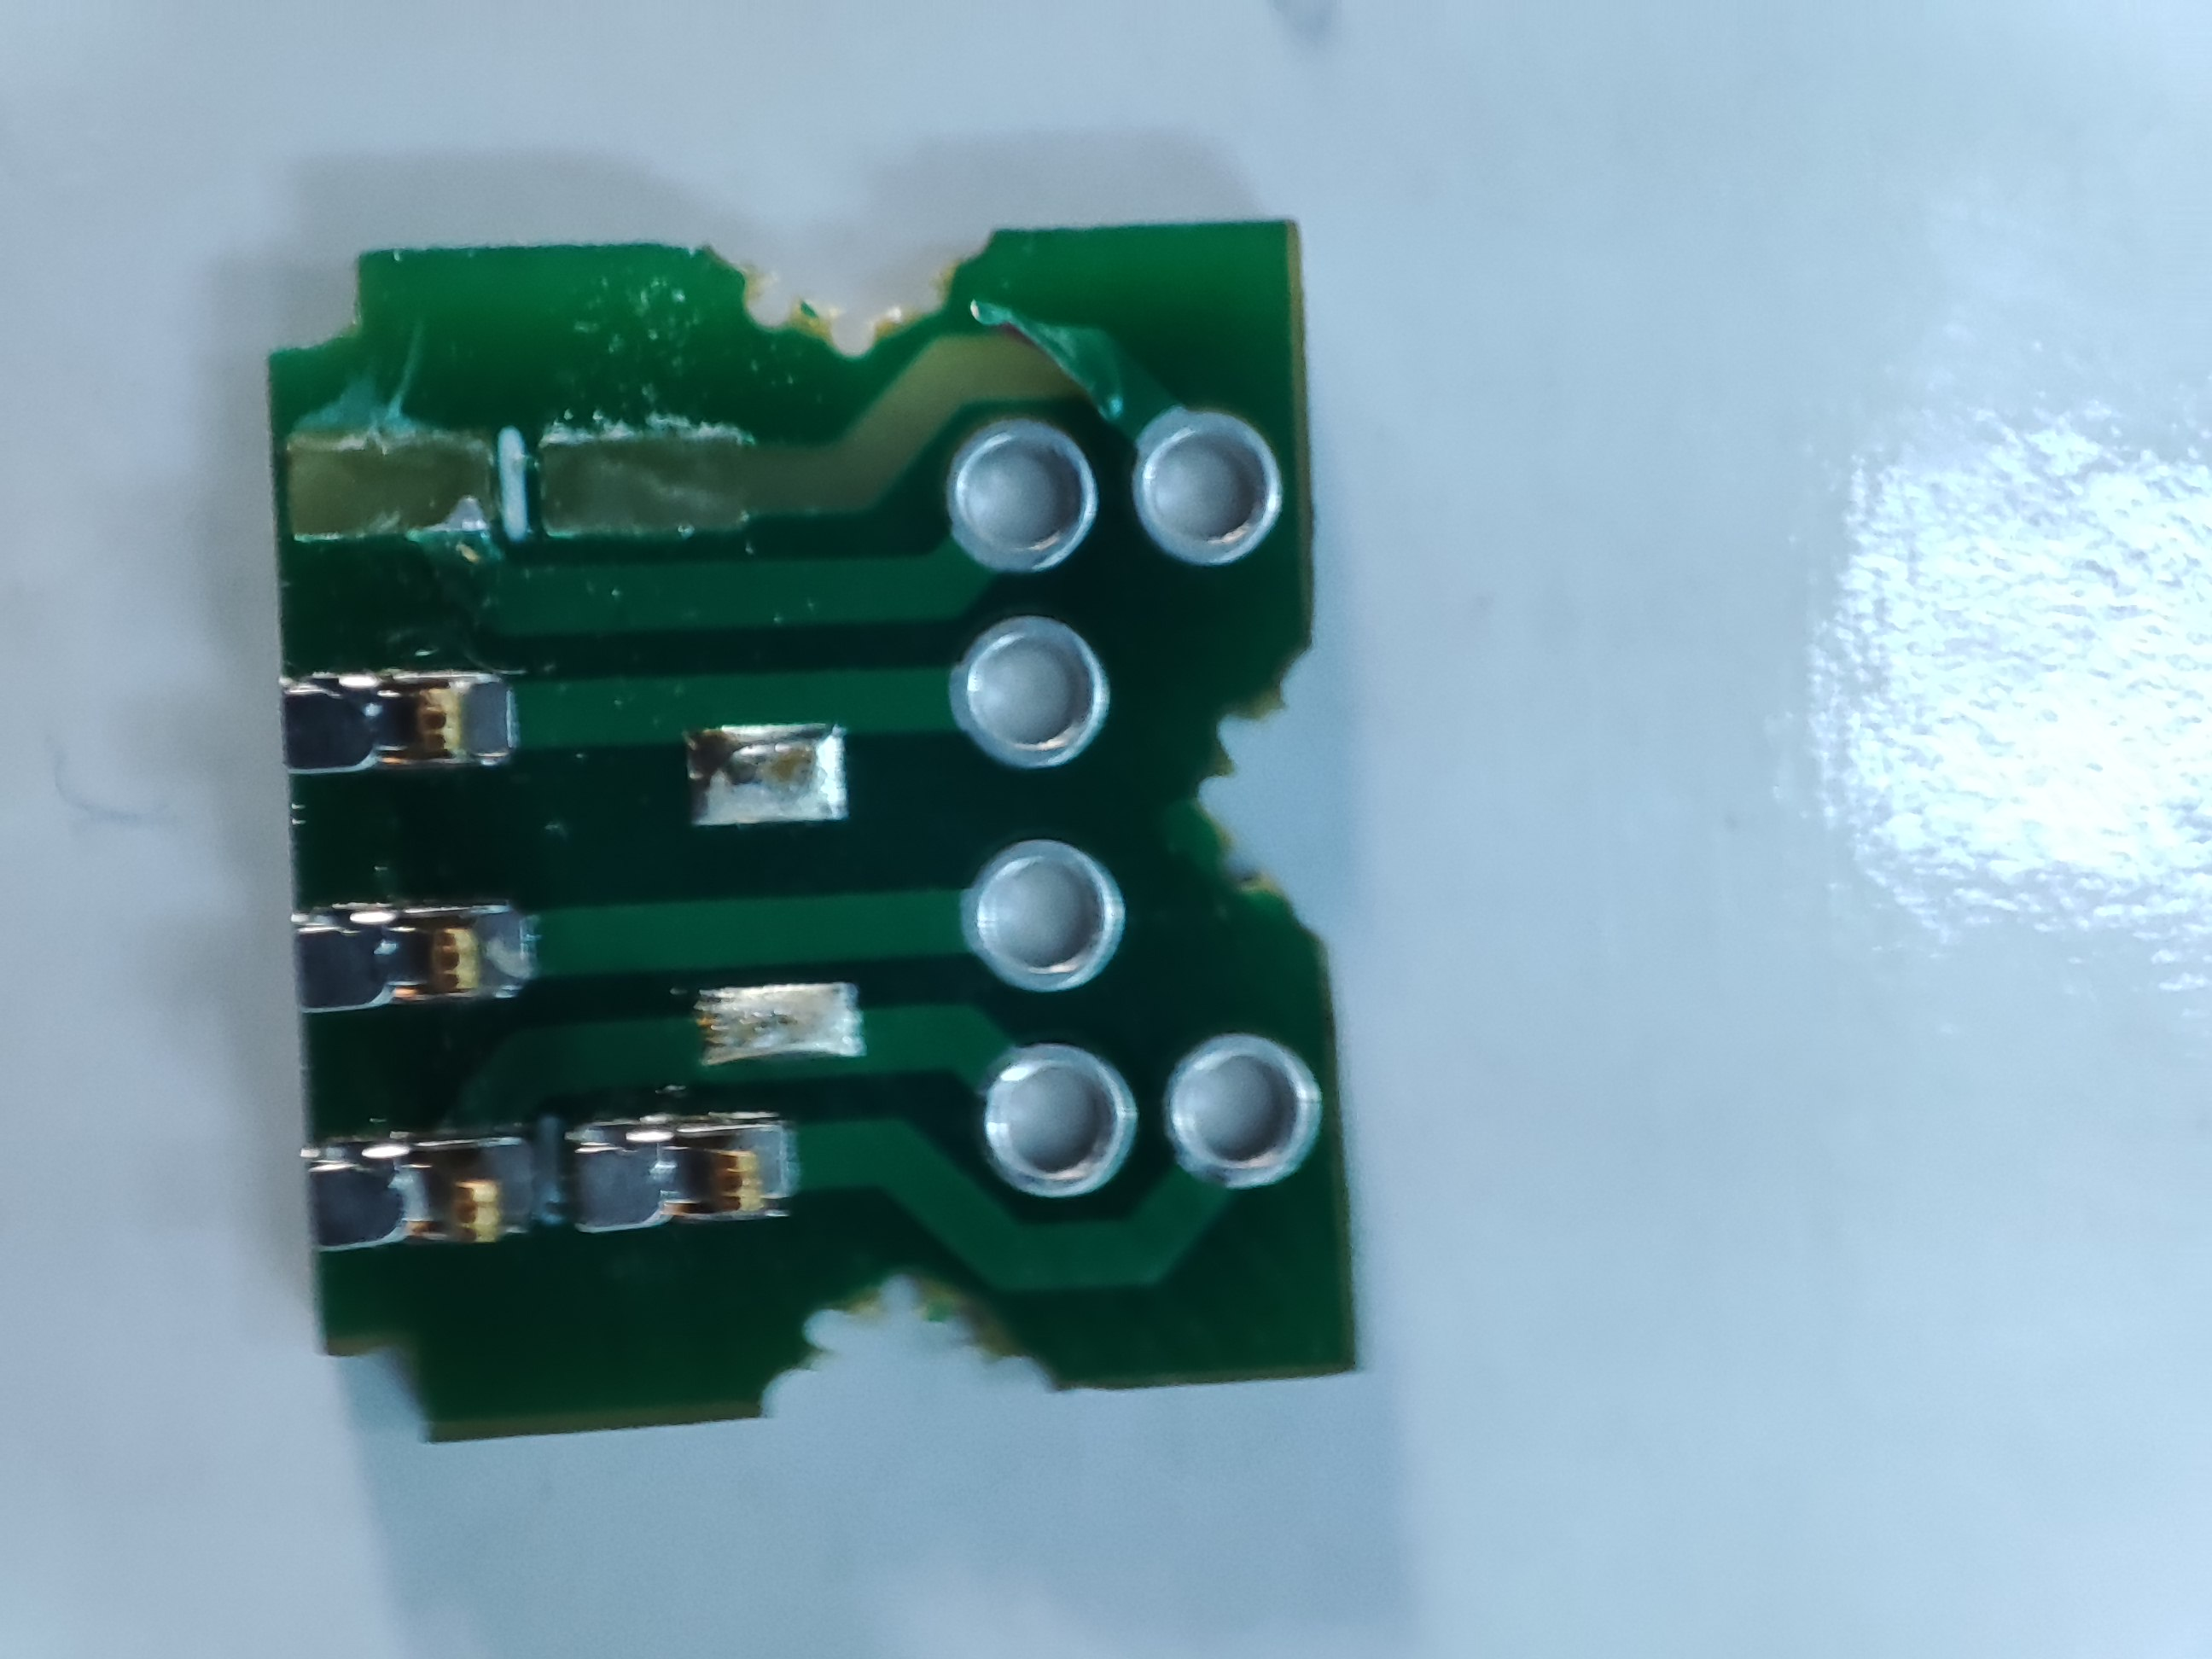PCB-MODEL-0: (211, 176, 1437, 1471)
defected-spring_finger: (272, 420, 529, 556), (510, 413, 768, 549)
normal-spring_finger: (261, 650, 552, 791), (268, 887, 559, 1028), (265, 1119, 556, 1260), (559, 1100, 850, 1241)
normal-through: (935, 403, 1104, 573), (944, 606, 1113, 777), (1157, 1032, 1325, 1202), (1125, 404, 1294, 575), (963, 833, 1130, 1004), (972, 1035, 1139, 1206)
